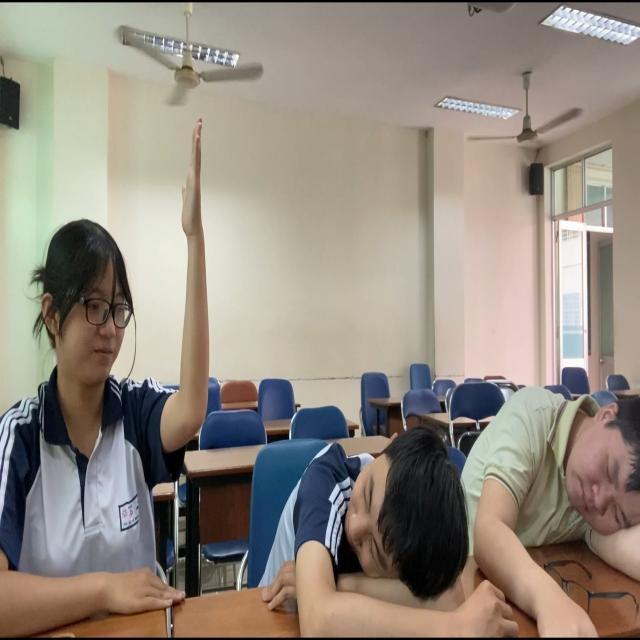raise_hand: (1, 80, 242, 640)
sleep: (258, 409, 528, 640), (441, 318, 640, 631)
